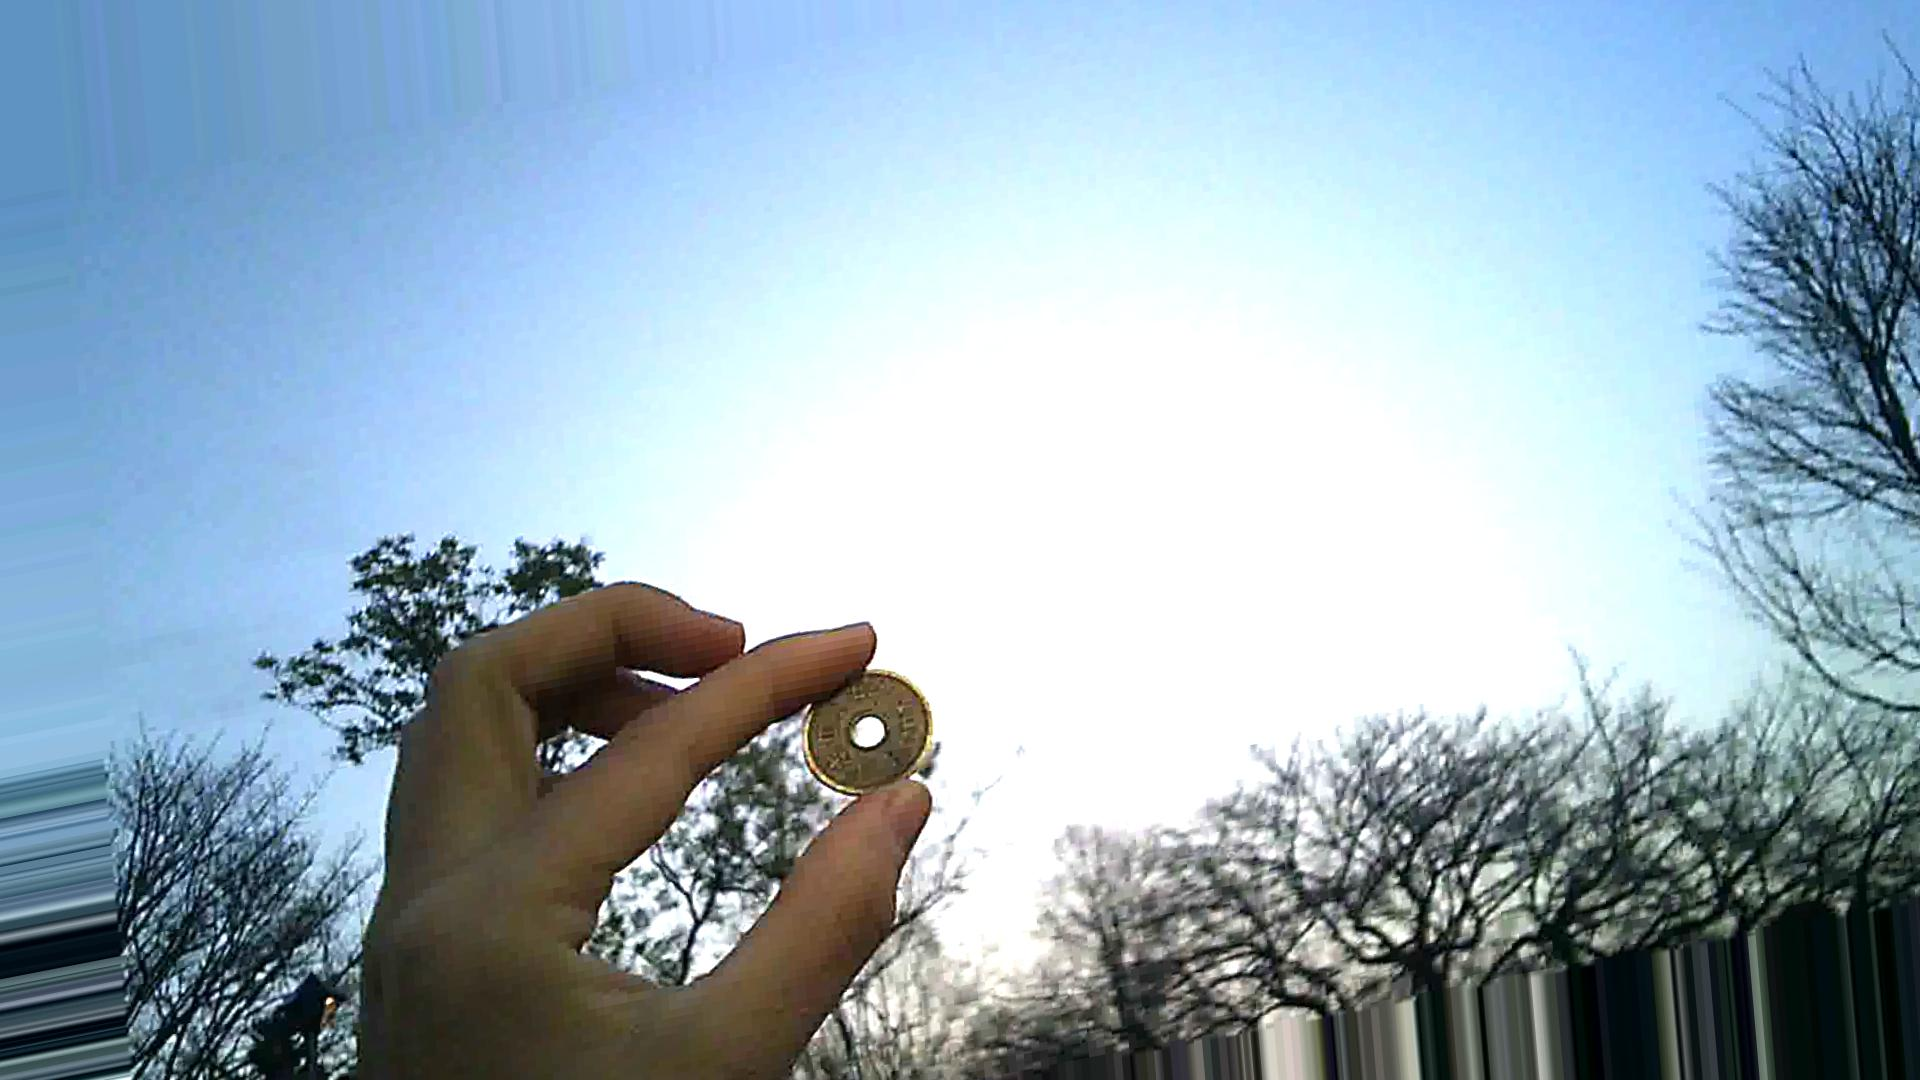5 Yen: (796, 655, 957, 815)
